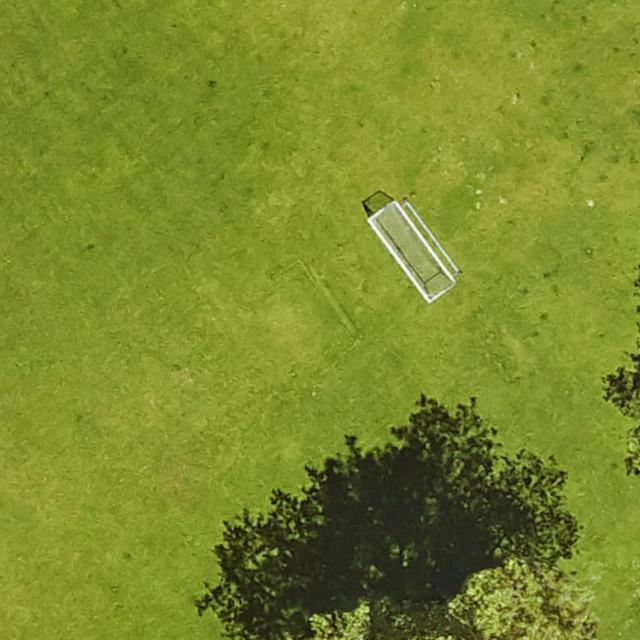tree: (304, 553, 594, 640), (611, 352, 640, 468)
